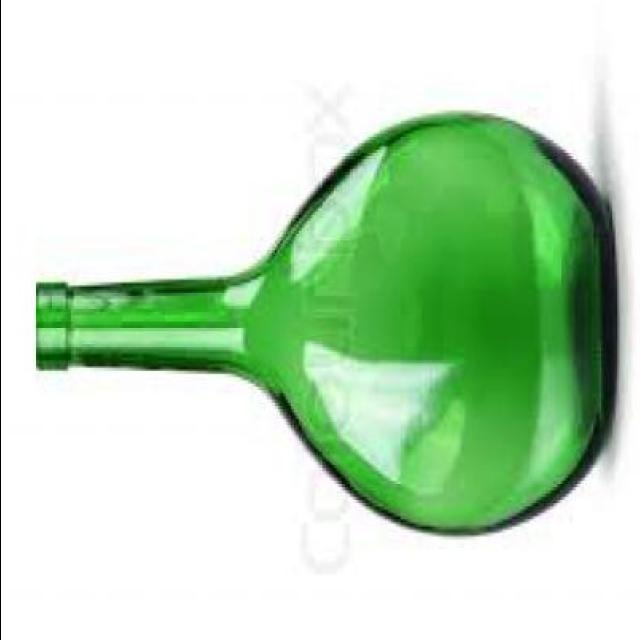kaca: (32, 116, 614, 538)
